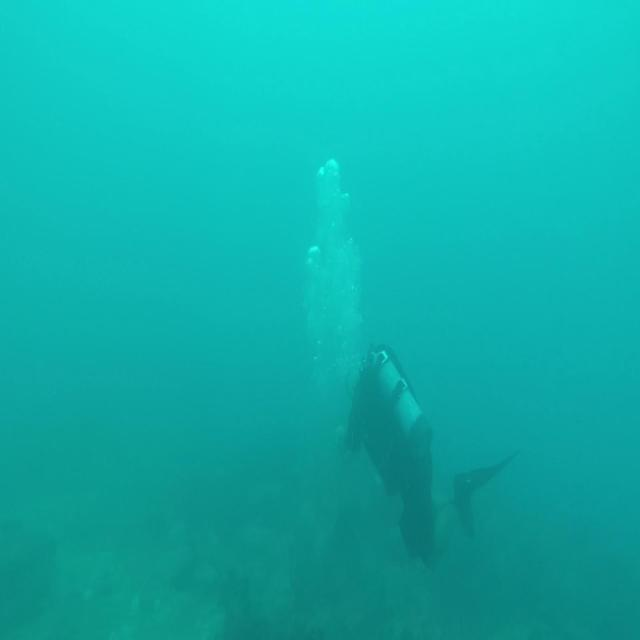human: (338, 340, 518, 568)
